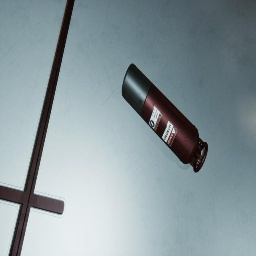NitrogenTank ,: (122, 63, 208, 173)
